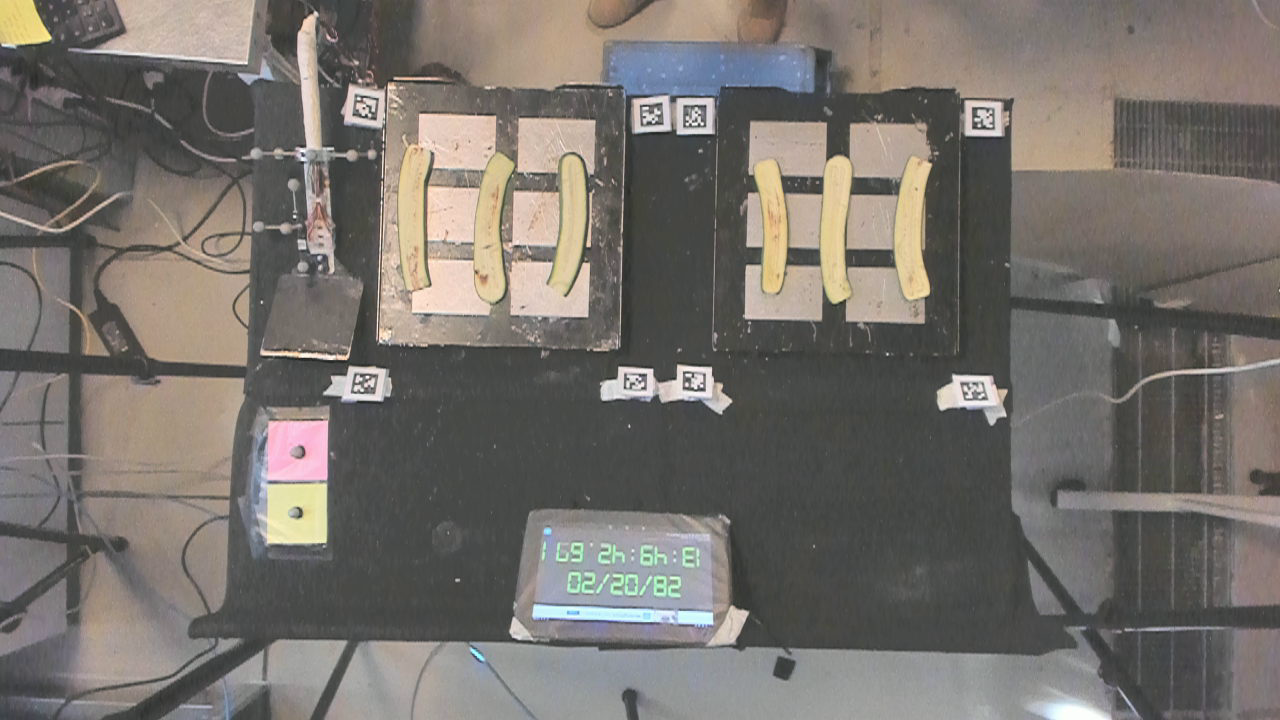marker: (265, 421, 329, 482)
zucchini: (889, 151, 936, 308), (819, 150, 859, 306), (549, 145, 589, 298), (392, 137, 429, 292), (471, 148, 507, 302), (752, 154, 787, 296)
